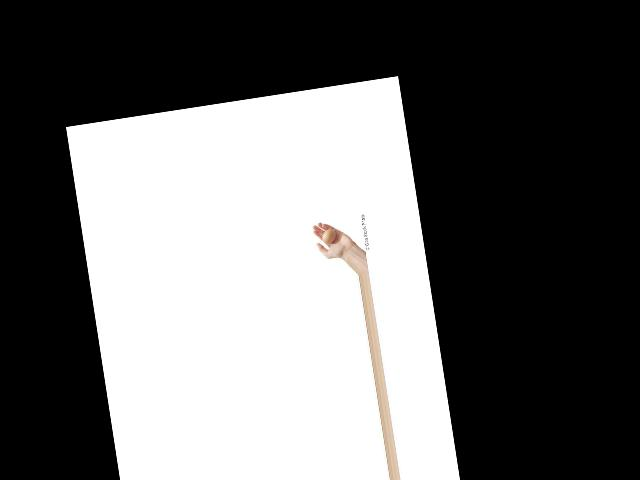egg: (321, 227, 336, 243)
